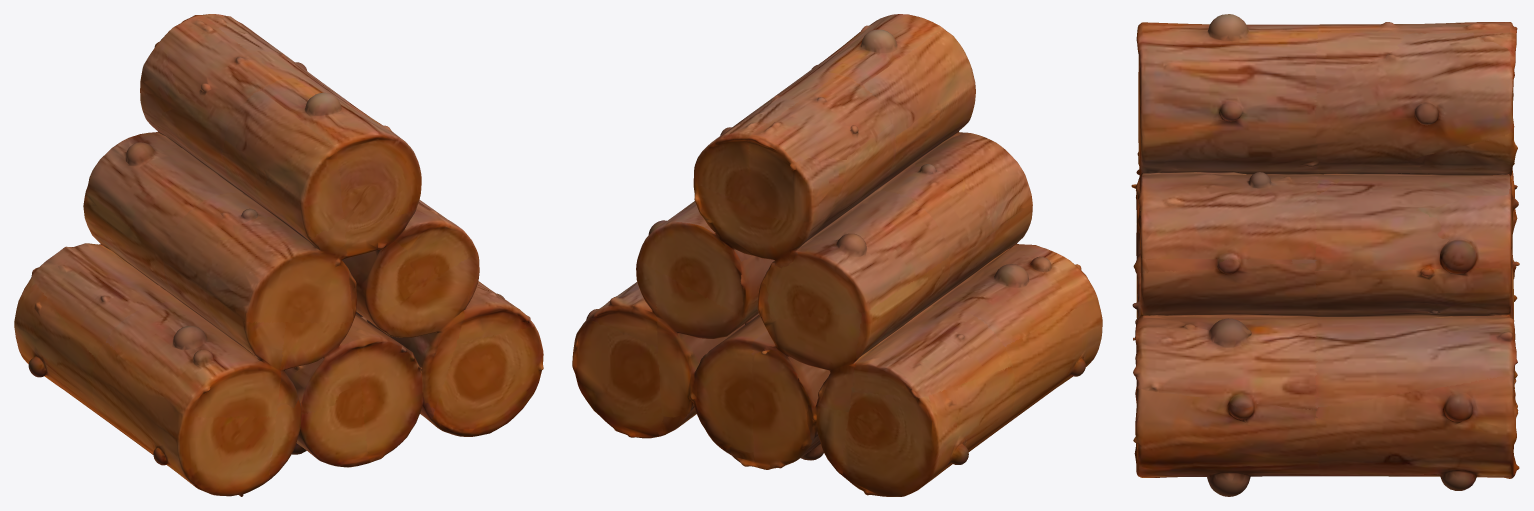
File: timber_stack.glb
3 renders of one model, left to right at view 1: azimuth 30°, elevation 25°; view 2: azimuth 150°, elevation 25°; view 3: azimuth 270°, elevation 25°, orthographic. The views are drawn at different scales.
Parts seen in each view (by area): view 1: tripo_node_cefc8d8b-f1f5-479e-8804-60a4313eba64; view 2: tripo_node_cefc8d8b-f1f5-479e-8804-60a4313eba64; view 3: tripo_node_cefc8d8b-f1f5-479e-8804-60a4313eba64.
Boxes of the visible parts, x1,y1,x2,y2 form: tripo_node_cefc8d8b-f1f5-479e-8804-60a4313eba64: (14, 14, 543, 496); tripo_node_cefc8d8b-f1f5-479e-8804-60a4313eba64: (572, 14, 1102, 496); tripo_node_cefc8d8b-f1f5-479e-8804-60a4313eba64: (1131, 14, 1519, 496).
Bounding box in the file's own units: 0.9456 × 0.8374 × 0.739.
Materials: 1 (1 with a texture image).
